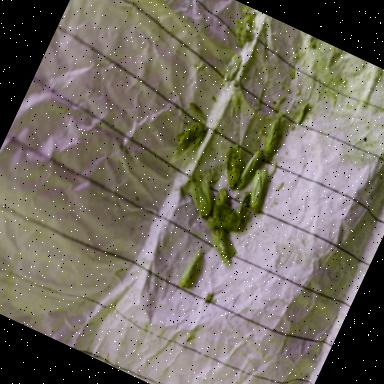pbw: (164, 113, 210, 170), (237, 164, 280, 220), (178, 172, 222, 222), (212, 140, 251, 190), (255, 114, 290, 166), (204, 203, 249, 243), (202, 226, 244, 268), (234, 146, 265, 195), (176, 245, 207, 291), (209, 187, 237, 222), (291, 100, 310, 129), (184, 100, 204, 116)
